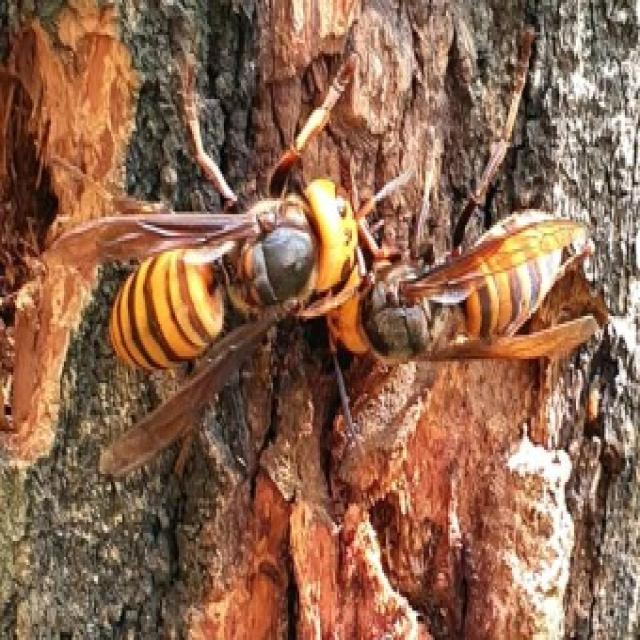Wasp: (100, 64, 355, 473), (333, 208, 608, 370)
